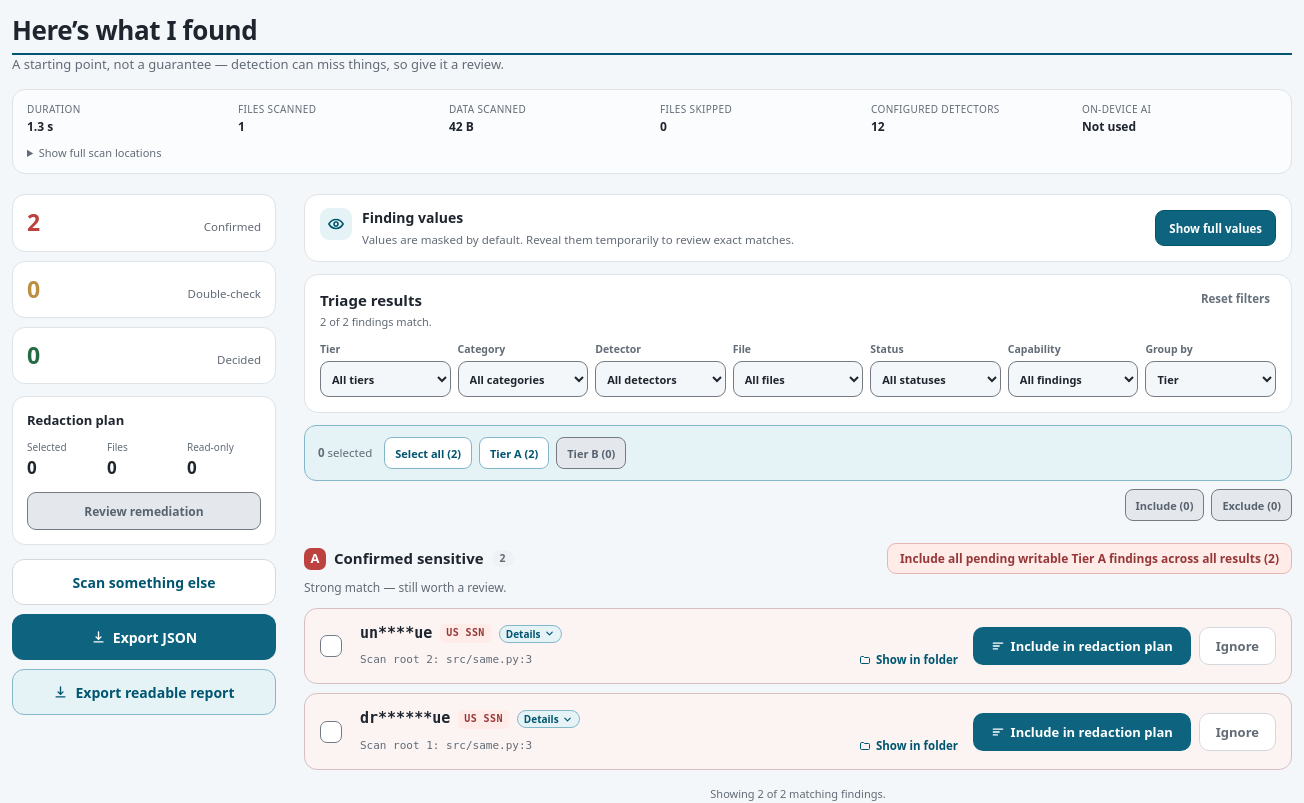
Test: ResultsScreen › keeps identical relative paths under different Windows roots distinct
This screenshot has width=1304, height=803.
Step 1. Select "File" in the dropdown labelled "Group by" → (1211,379), box [1145,361,1276,397]
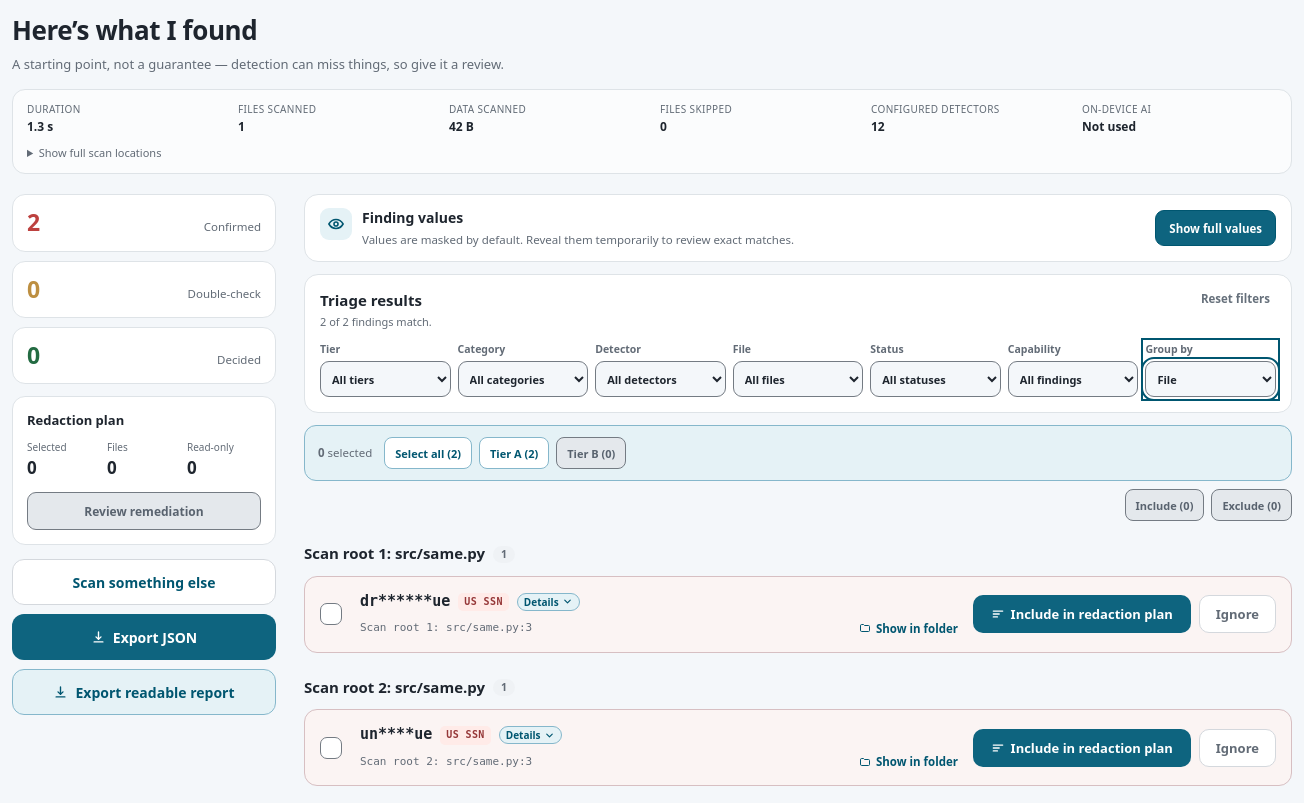
Check: the heading "Scan root 1: src/same.py 1" is shown, box [304,543,515,565]
Check: the heading "Scan root 2: src/same.py 1" is shown, box [304,677,515,698]
Step 2. Select "Scan root 2: src/same.py" in the dropdown labelled "File" → (798,379), box [733,361,863,397]
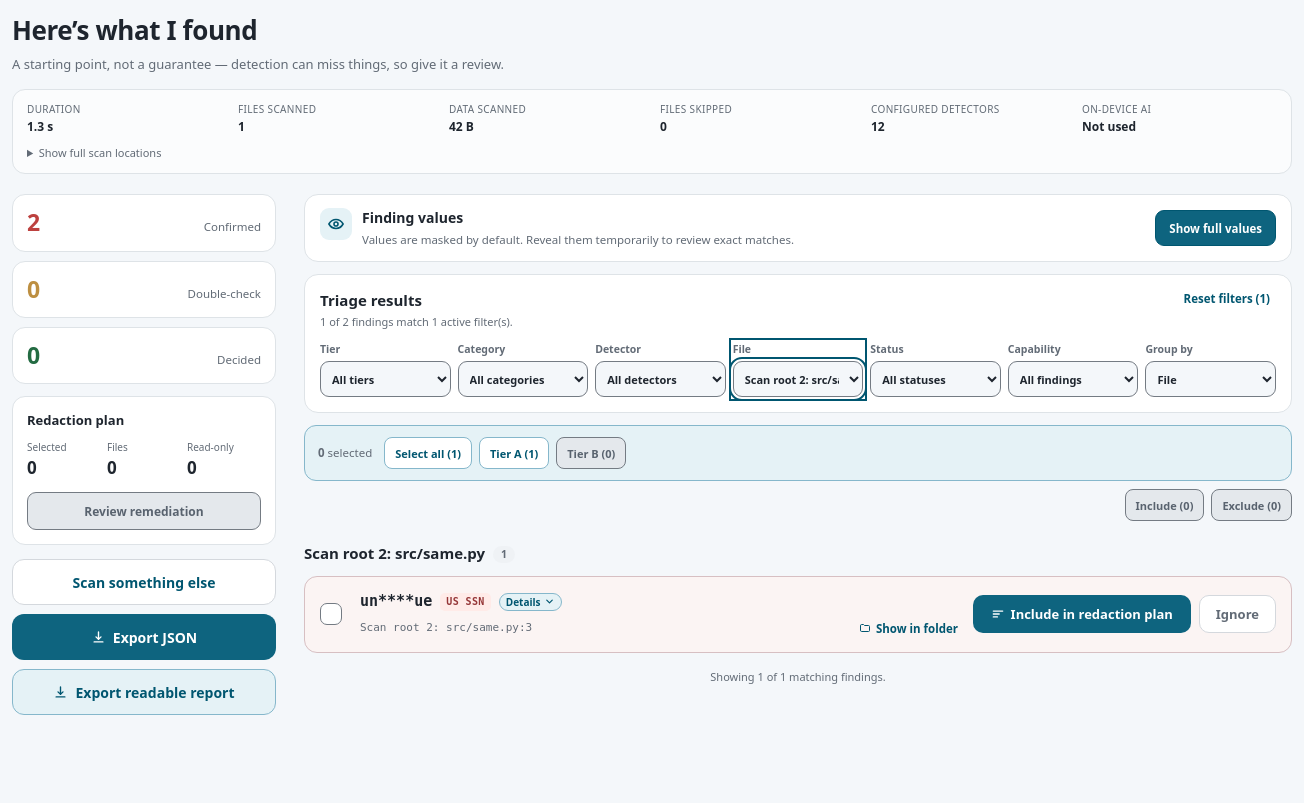
Check: the text "un****ue" is shown, box [360,591,432,613]
Check: the heading "dr******ue" is gone
Check: the heading "Scan root 1: src/same.py" is gone
